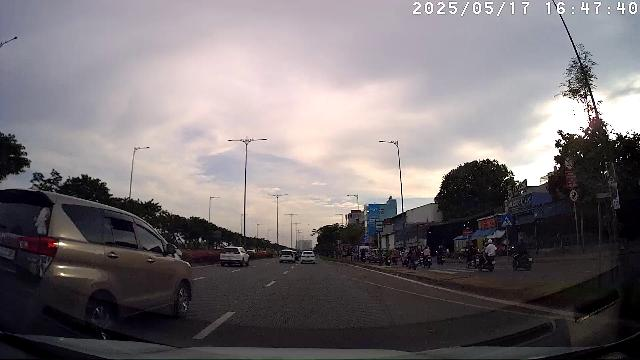127-toc-do-toi-da-50: (568, 188, 579, 203)
